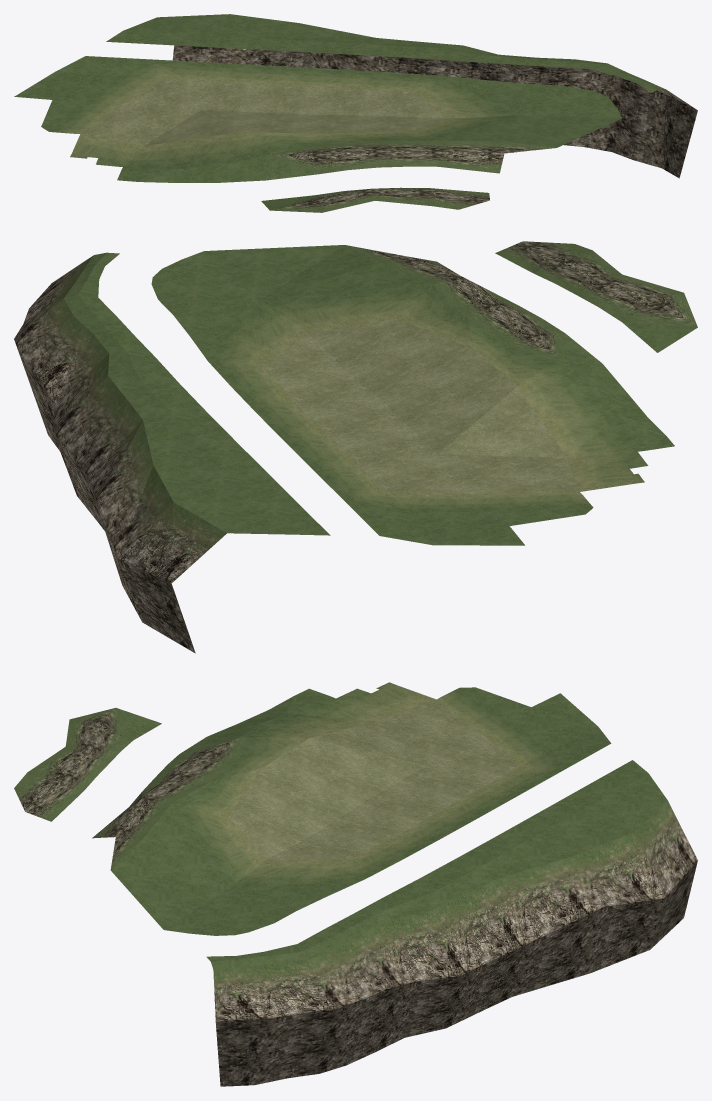
File: cegroundt206.obj
3 views of the same model, one above another, from view 1: azimuth 30°, elevation 25°; view 2: azimuth 150°, elevation 25°; view 3: azimuth 270°, elevation 25° (orthographic). The views are drawn at different scales.
Visible parts, largest first — view 1: CEgroundT206; view 2: CEgroundT206; view 3: CEgroundT206.
Part boxes in pixels (<box>): CEgroundT206: <box>14,14,697,212</box>; CEgroundT206: <box>14,241,697,653</box>; CEgroundT206: <box>14,682,697,1086</box>.
Bounding box in the file's own units: 291 × 60.84 × 277.
6 materials, 6 textured.
